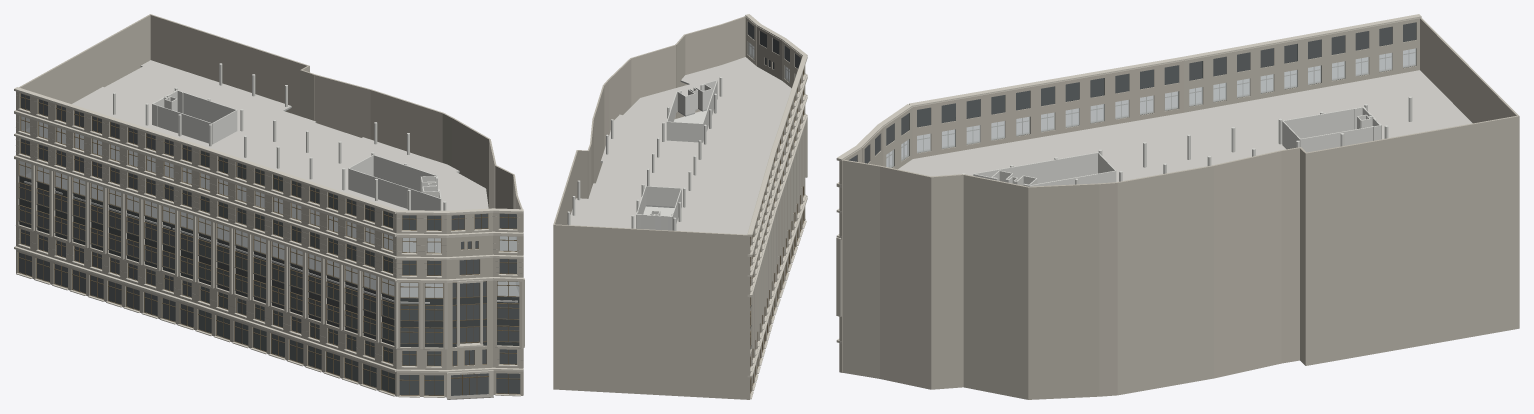
File: 61a-interior.glb
3 views of the same model, side by side, from view 1: azimuth 30°, elevation 25°; view 2: azimuth 150°, elevation 25°; view 3: azimuth 270°, elevation 25° (orthographic). The views are drawn at different scales.
Parts seen in each view (by area): view 1: 61A_INTERIOR; view 2: 61A_INTERIOR; view 3: 61A_INTERIOR.
Part boxes in pixels (box(x1,y1,x2,y2)): 61A_INTERIOR: box(14, 14, 524, 399); 61A_INTERIOR: box(553, 14, 807, 399); 61A_INTERIOR: box(836, 14, 1519, 399).
Bounding box in the file's own units: 51.16 × 29.56 × 85.69.
